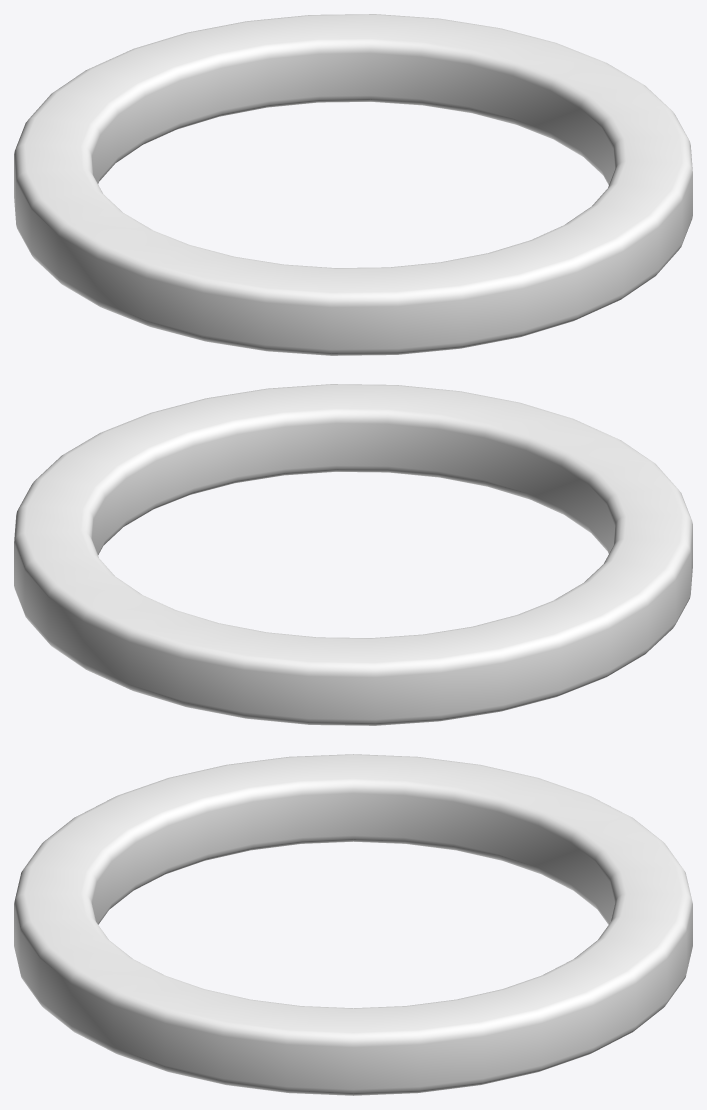
The model's file is CircleR.fbx.
The picture shows the model from 3 angles, top to bottom: view 1: azimuth 30°, elevation 25°; view 2: azimuth 150°, elevation 25°; view 3: azimuth 270°, elevation 25°; orthographic projection.
Parts seen in each view (by area): view 1: Circle; view 2: Circle; view 3: Circle.
Part boxes in pixels (x1,y1,x2,y2): Circle: (14, 14, 692, 355); Circle: (14, 384, 692, 725); Circle: (14, 754, 692, 1095).
Size of the model in its own units: 190 by 19.17 by 190.
